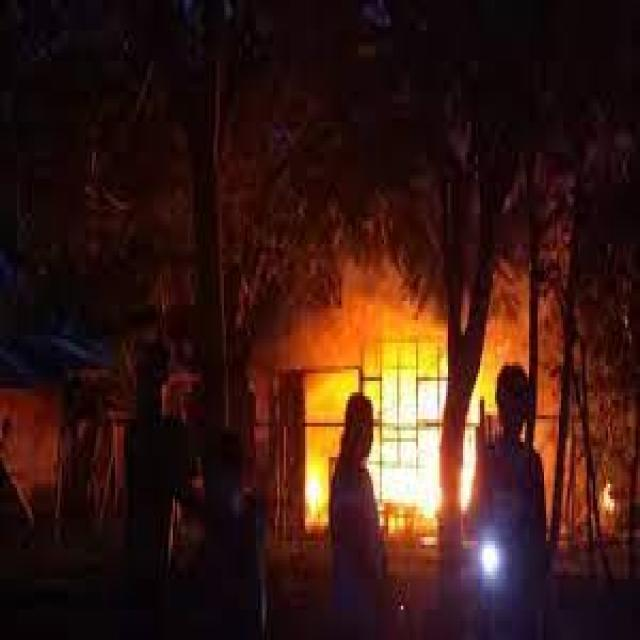Fire: (378, 363, 448, 535), (313, 386, 331, 543)
